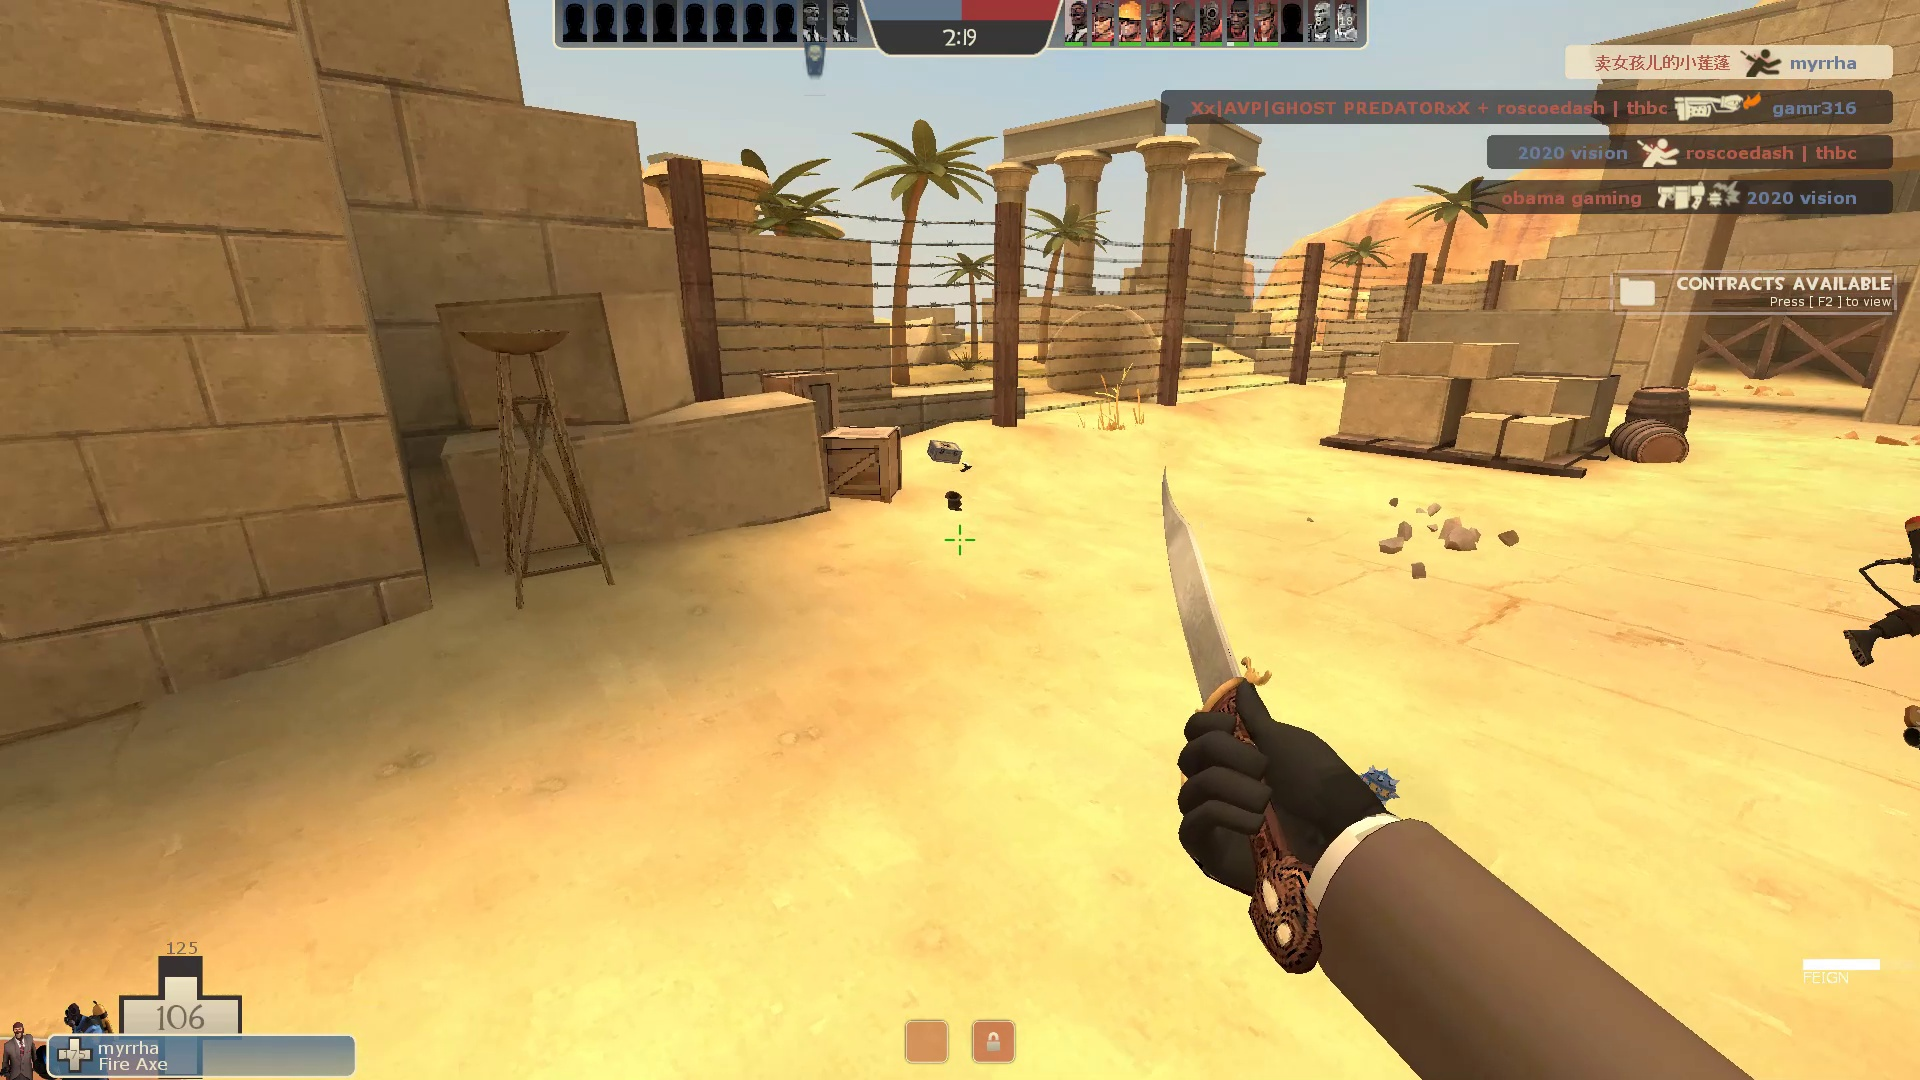red_pyro: (1837, 493, 1920, 761)
